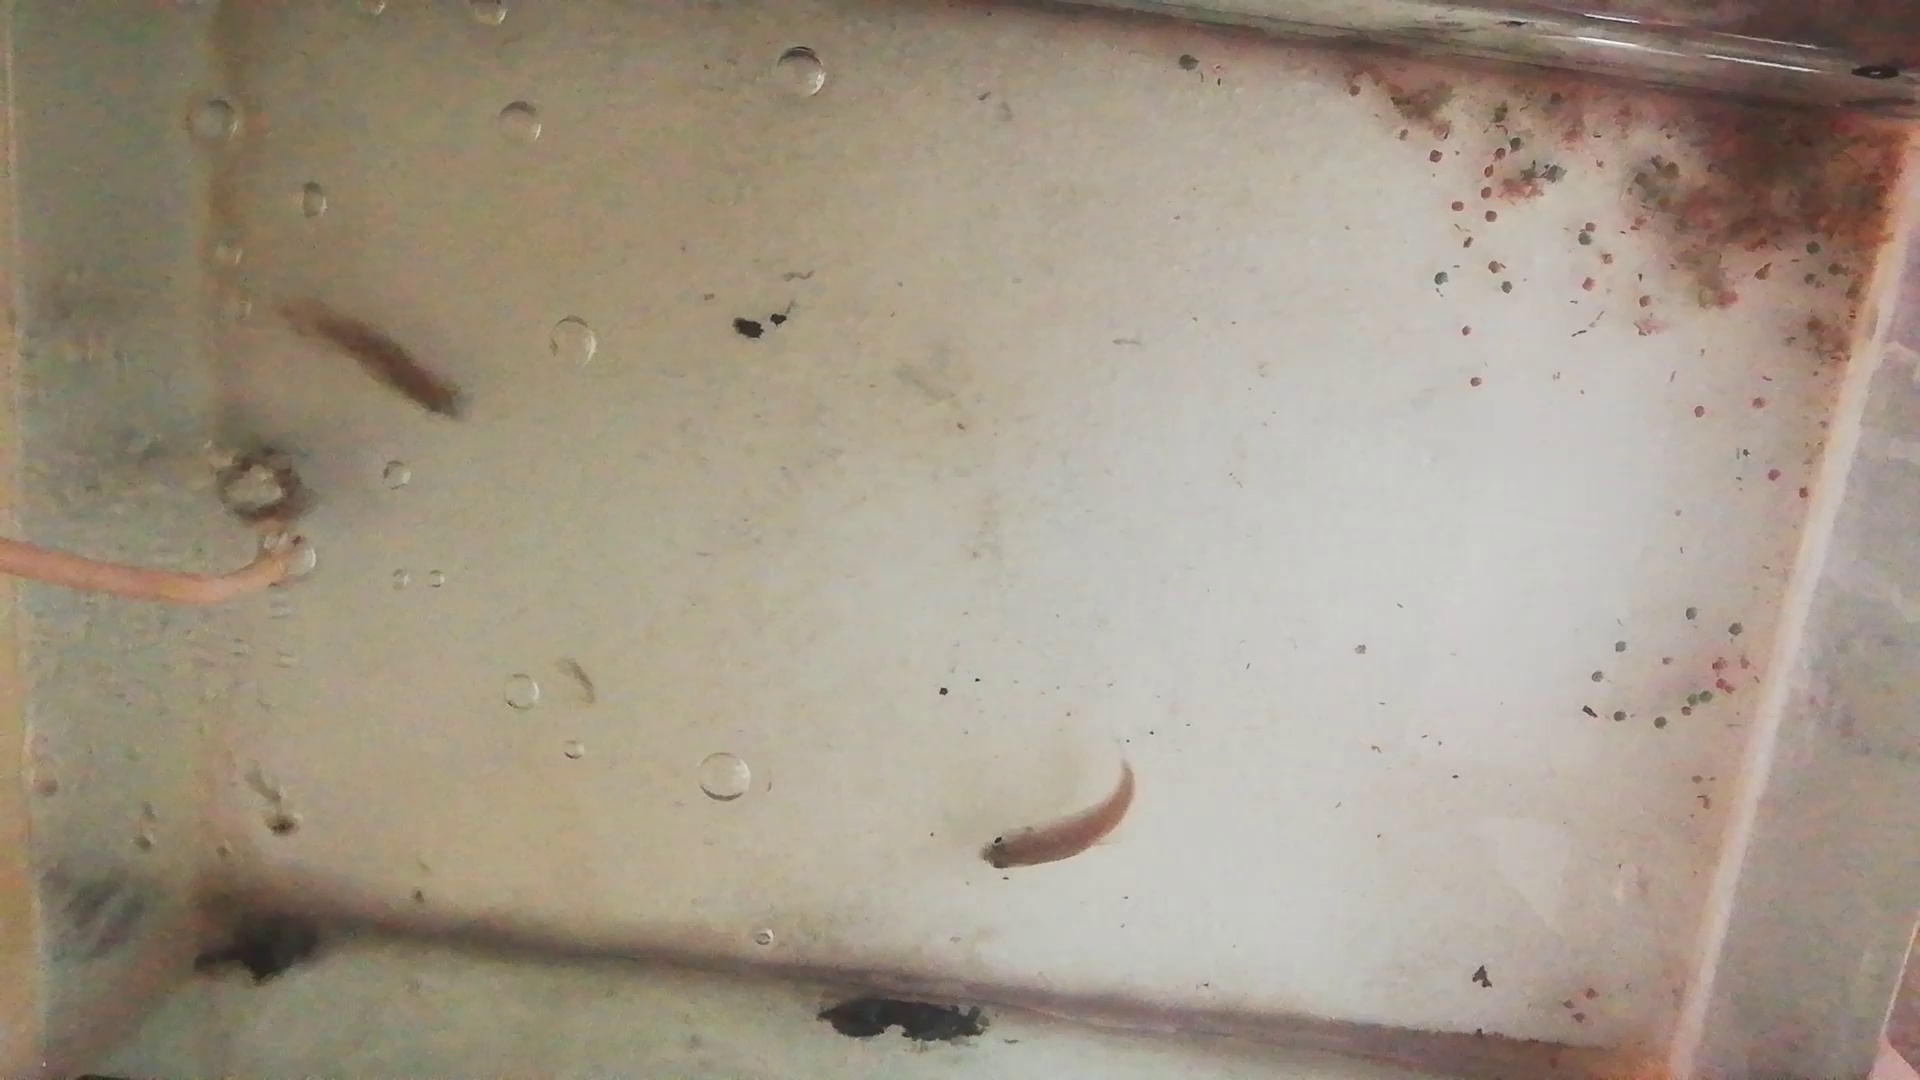fish: (269, 299, 464, 427), (977, 766, 1138, 872)
